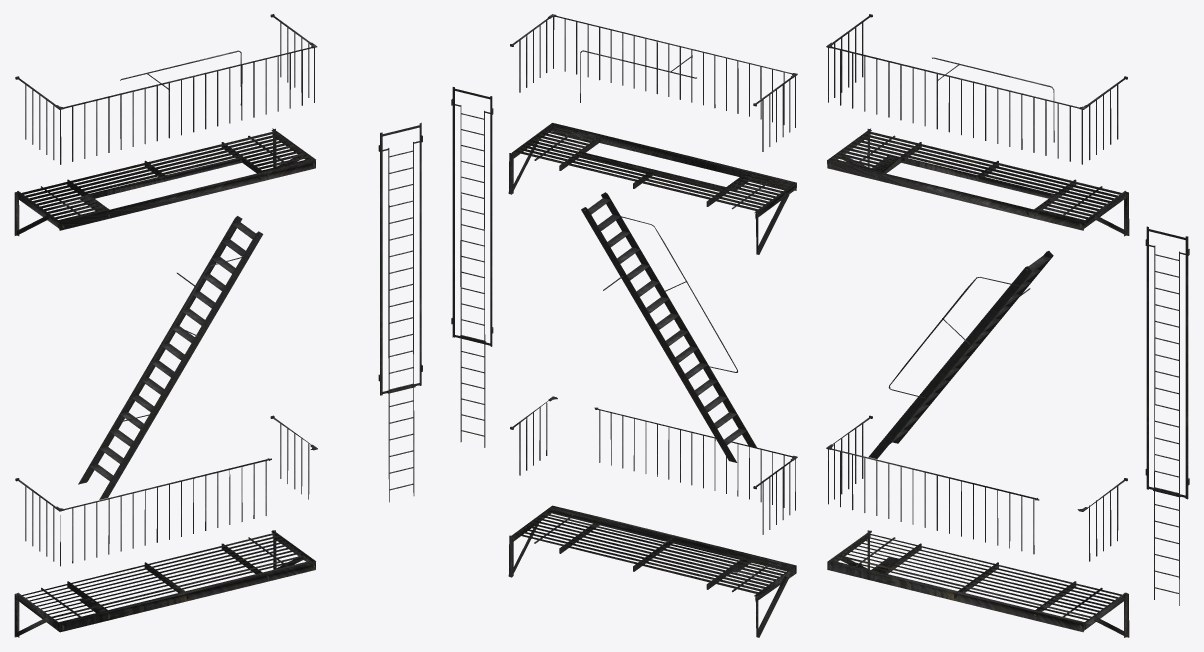
The model's file is fire-escape.lite.762afa25.glb.
3 views of the same model, side by side, from view 1: azimuth 30°, elevation 25°; view 2: azimuth 150°, elevation 25°; view 3: azimuth 330°, elevation 25° (orthographic). The views are drawn at different scales.
Parts seen in each view (by area): view 1: model; view 2: model; view 3: model.
Boxes of the visible parts, x1=… form: model: x1=14, y1=14, x2=422, y2=637; model: x1=451, y1=14, x2=797, y2=637; model: x1=826, y1=14, x2=1189, y2=637.
Bounding box in the file's own units: 6.66 × 9.76 × 1.42.
3 materials, 3 textured.
